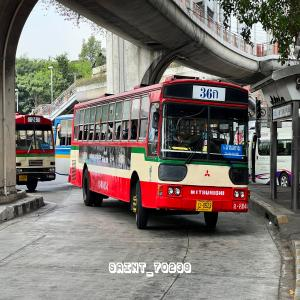BMTA-bus: (69, 77, 250, 230), (15, 115, 56, 191)
Bus Line Number: (197, 86, 220, 102), (31, 118, 37, 123)
Bus Side Number: (231, 201, 249, 212), (44, 173, 55, 179)
Destination Sign: (220, 143, 242, 160), (39, 144, 51, 149)
